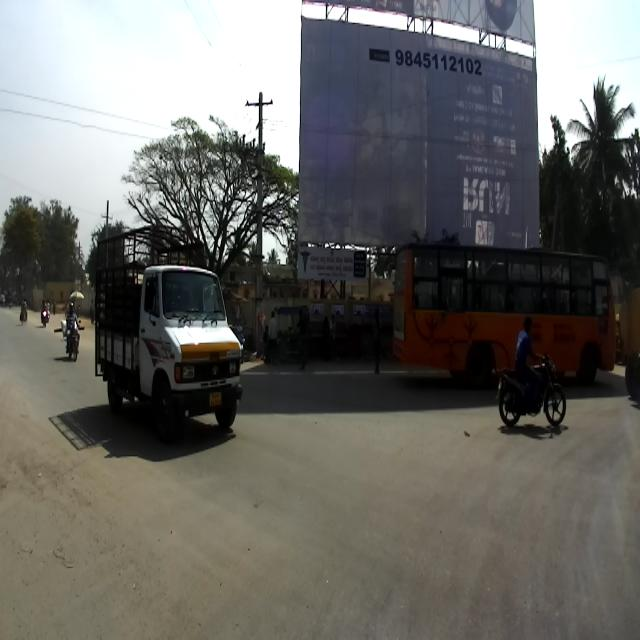motorcycle ahead at: (490, 354, 568, 436)
truck ahead at: (82, 221, 245, 441)
